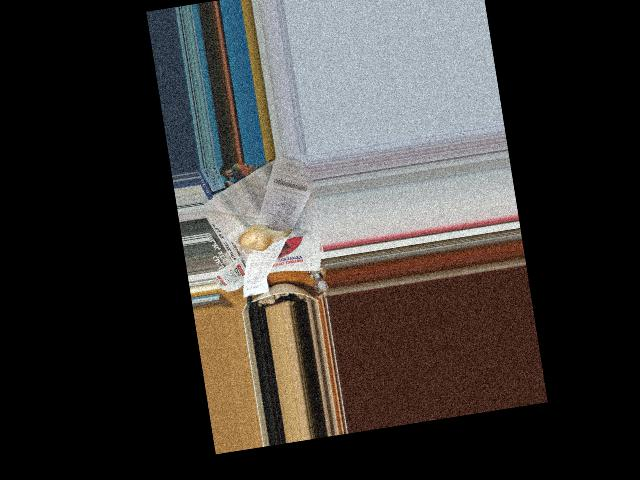onion: (237, 222, 279, 252)
